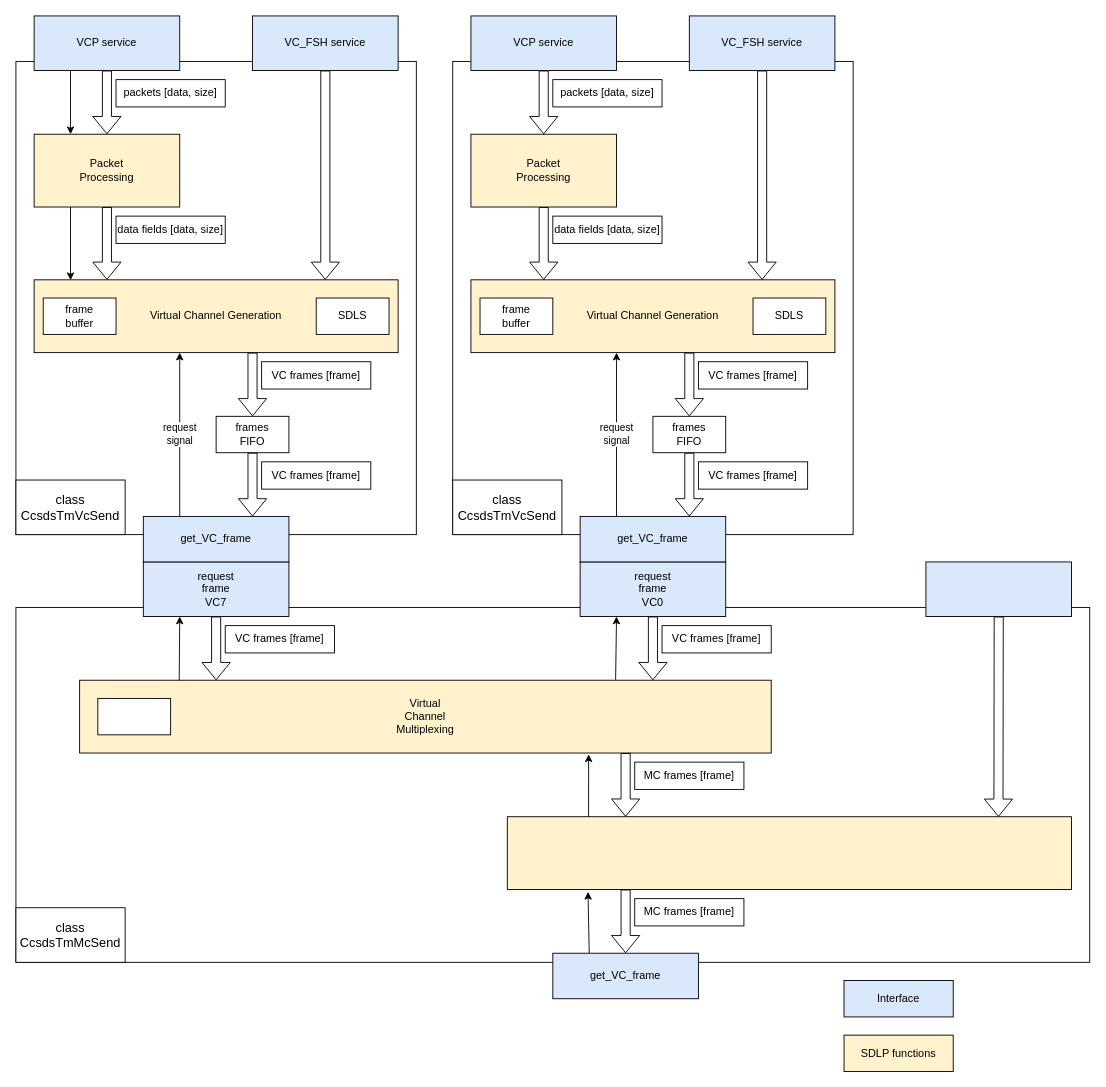
This 1106x1087 diagram has some shape labels left out. Each missing label, with the centre of its shape:
Master Channel Generation: point (789, 853)
MC_FSH service: point (998, 589)
multiplexing logic: point (134, 716)
